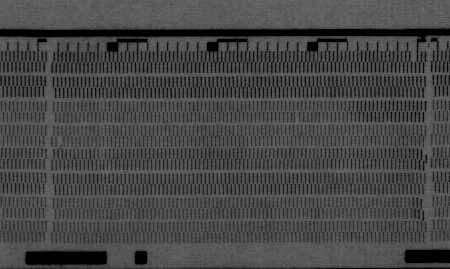Broken hole: (407, 51, 420, 63), (54, 136, 66, 148)
Oblique printing: (416, 196, 431, 218), (419, 149, 430, 164), (290, 112, 301, 122)
